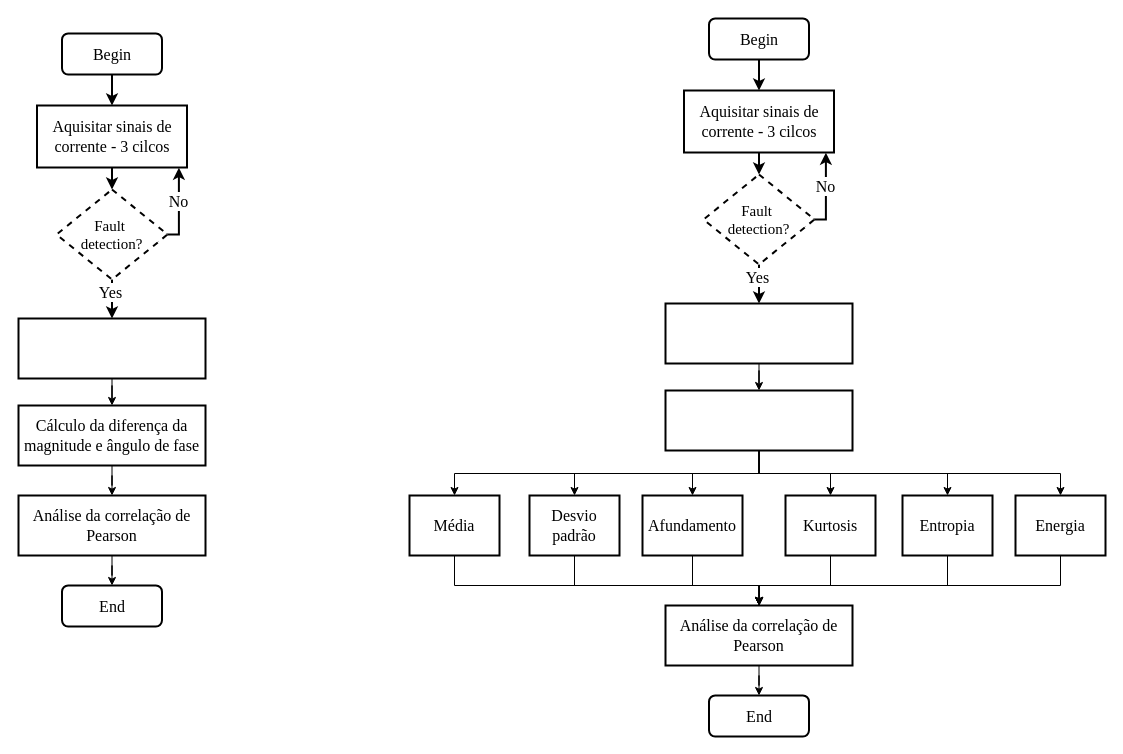
Image size: 1123x754. Some labels were removed from this diagram. Here are the shapes that lost their labels. From the top down, the centre of each, then its label:
At (111,348): "Aplicar FFT - primeiro e terceiro ciclos da memória".
At (758,333): "Aplicar DWT - dB4 - 7 primeiros níveis de detalhe".
At (758,420): "Extração das métricas para cada nível do sinal".
